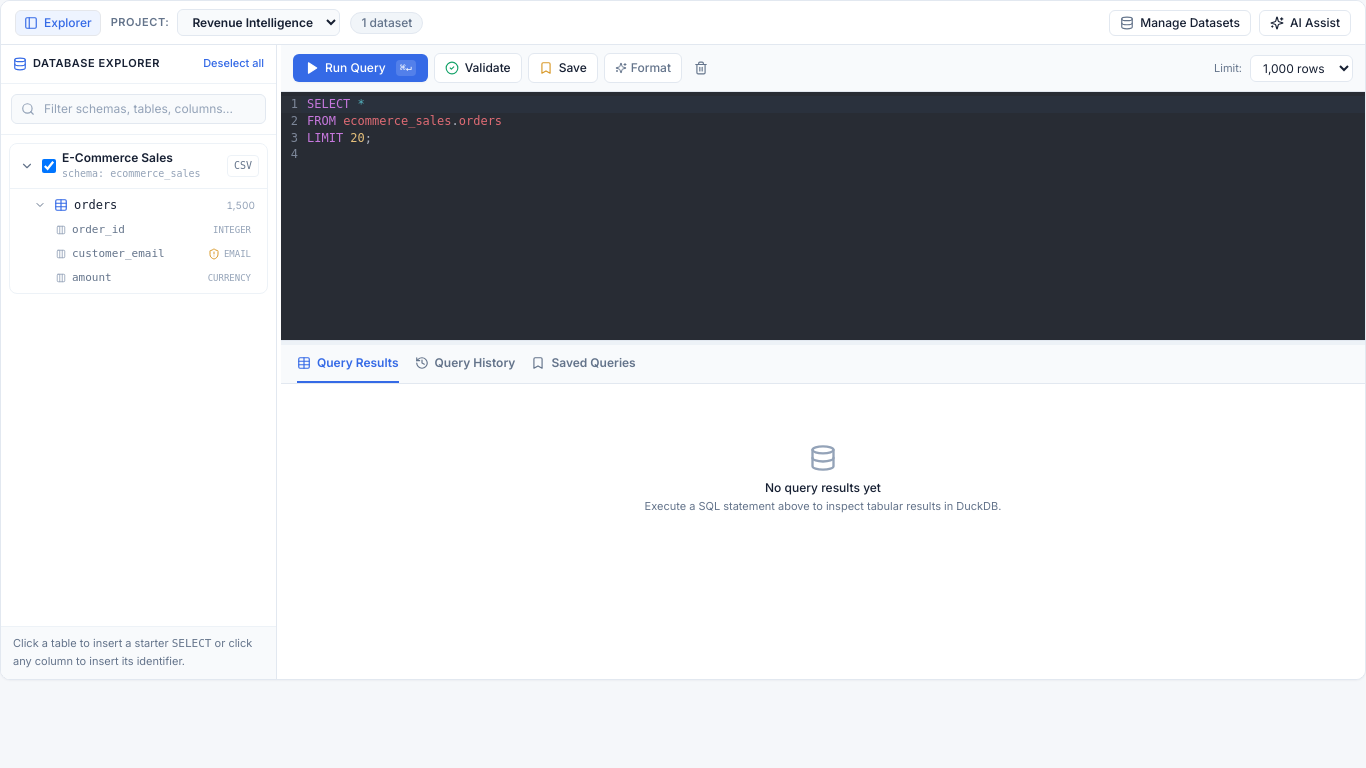
Test case: AnalyticsWorkspacePage › switches between Results, History, and Saved Queries tabs
Expected: the text "E-Commerce Sales" is shown, [62,150,173,165]
Click "Query History" tab
Click the button "Query History" at x=465, y=364, box [414,345,515,383]
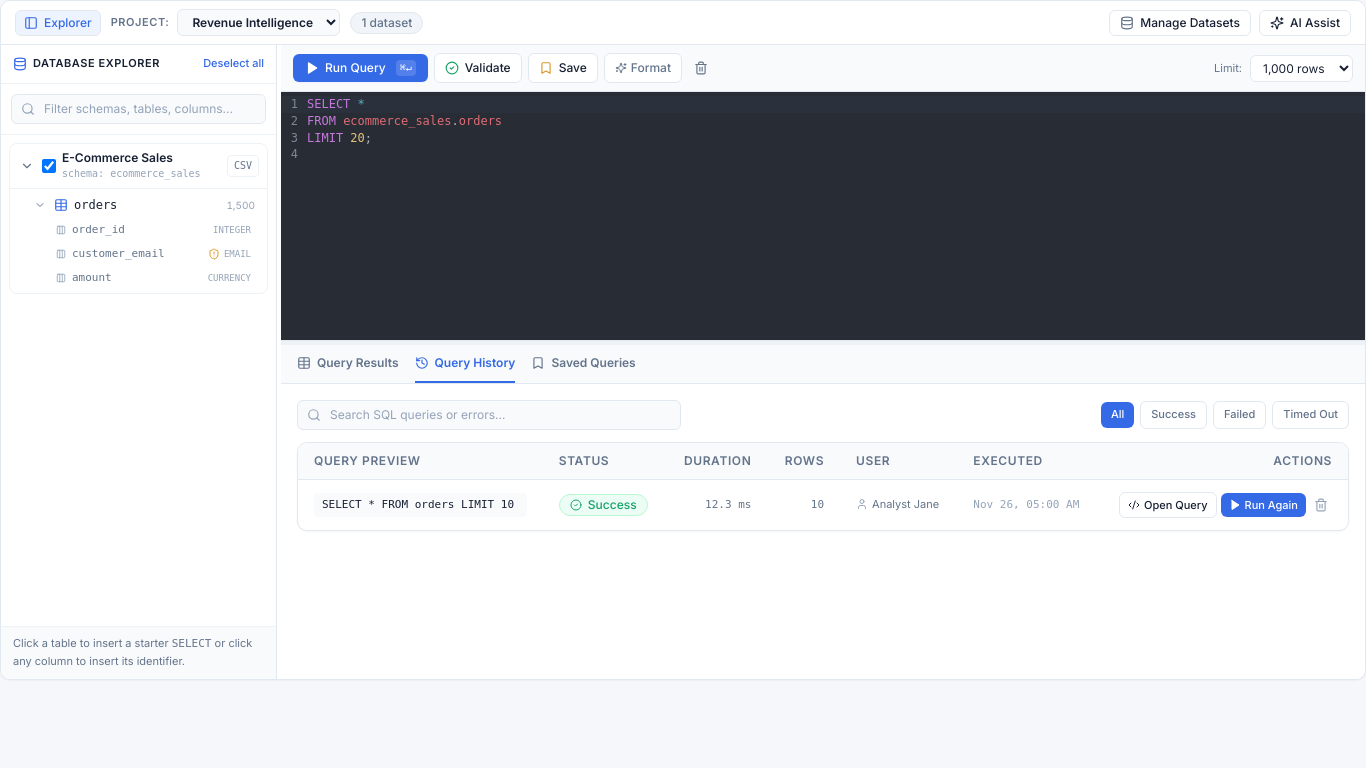
Expected: the text "SELECT * FROM orders LIMIT 10" is shown, [314,493,527,517]
Expected: the text "12.3 ms" is shown, [666,480,767,530]
Click "Saved Queries" tab
Click the button "Saved Queries" at x=584, y=364, box [531,345,636,383]
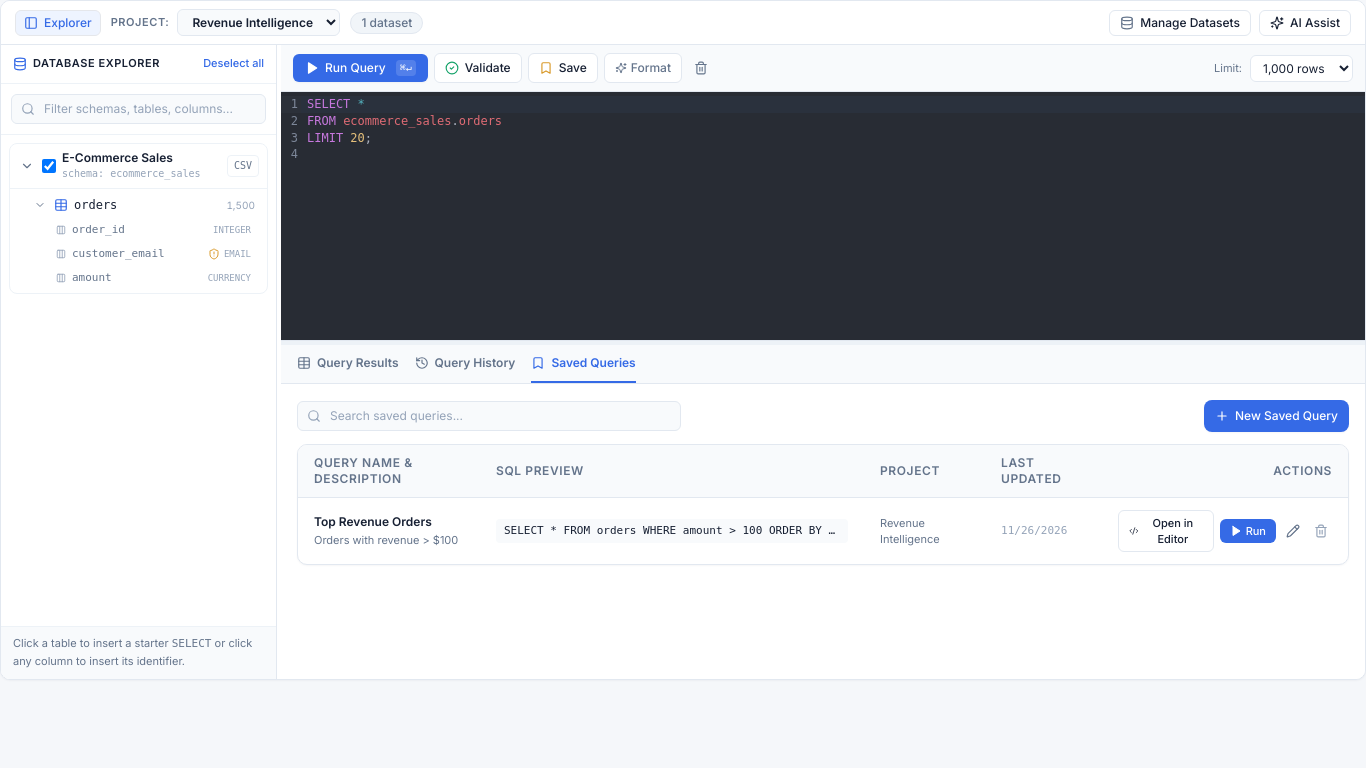
Expected: the text "Top Revenue Orders" is shown, [314,514,432,529]
Expected: the text "Orders with revenue > $100" is shown, [314,532,464,548]
